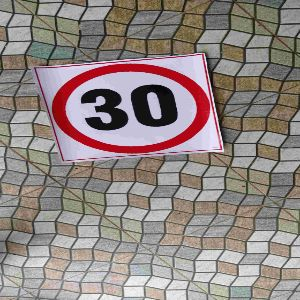speedlimit30: (47, 67, 214, 157)
